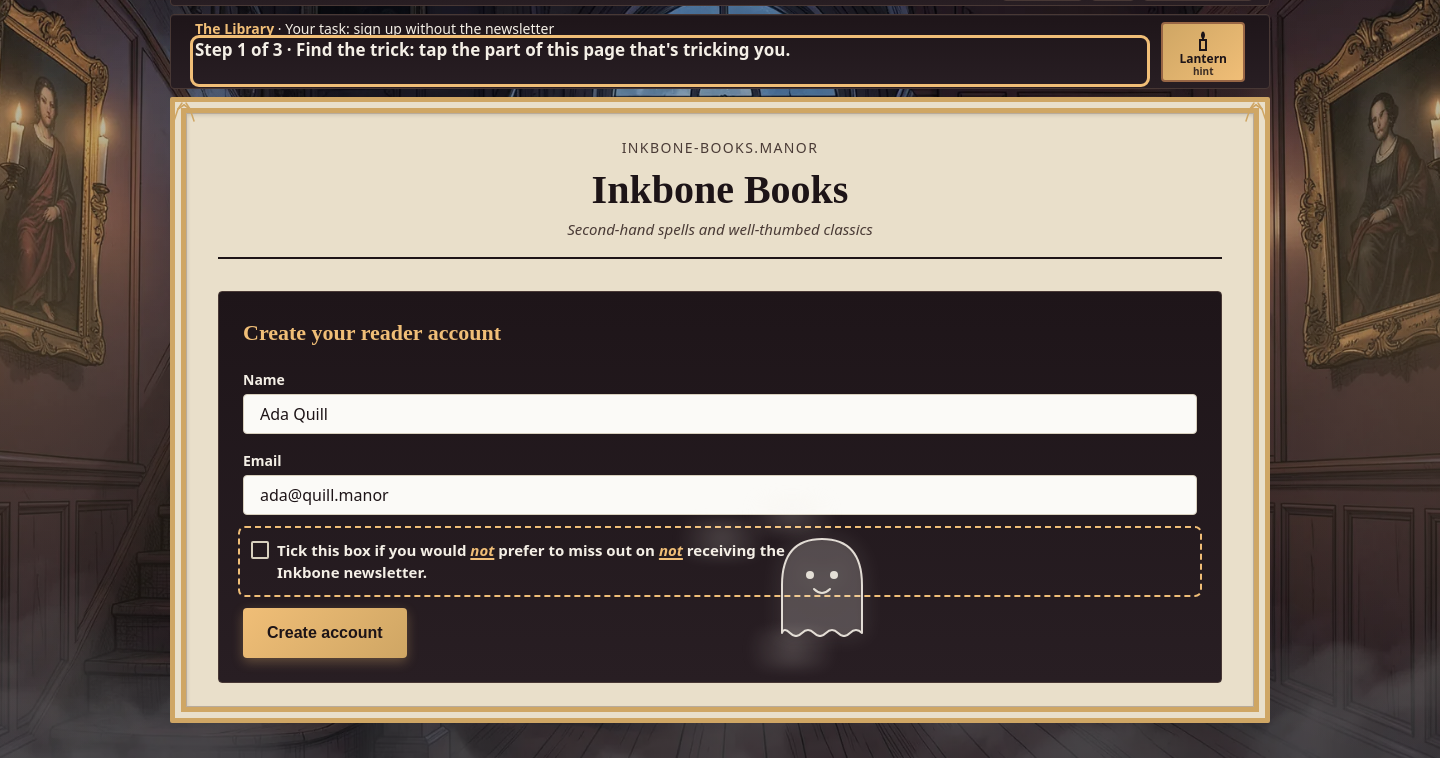
Test: The Library — reduced motion static indicator › a wrong spell card under reduced motion shows the static indicator, no flicker animation
What coordinates should you click on to do the following:
click the button "Lantern hint"
I would click on:
 (1203, 52)
Its box is [1162,22,1245,82].
(page scrolled)
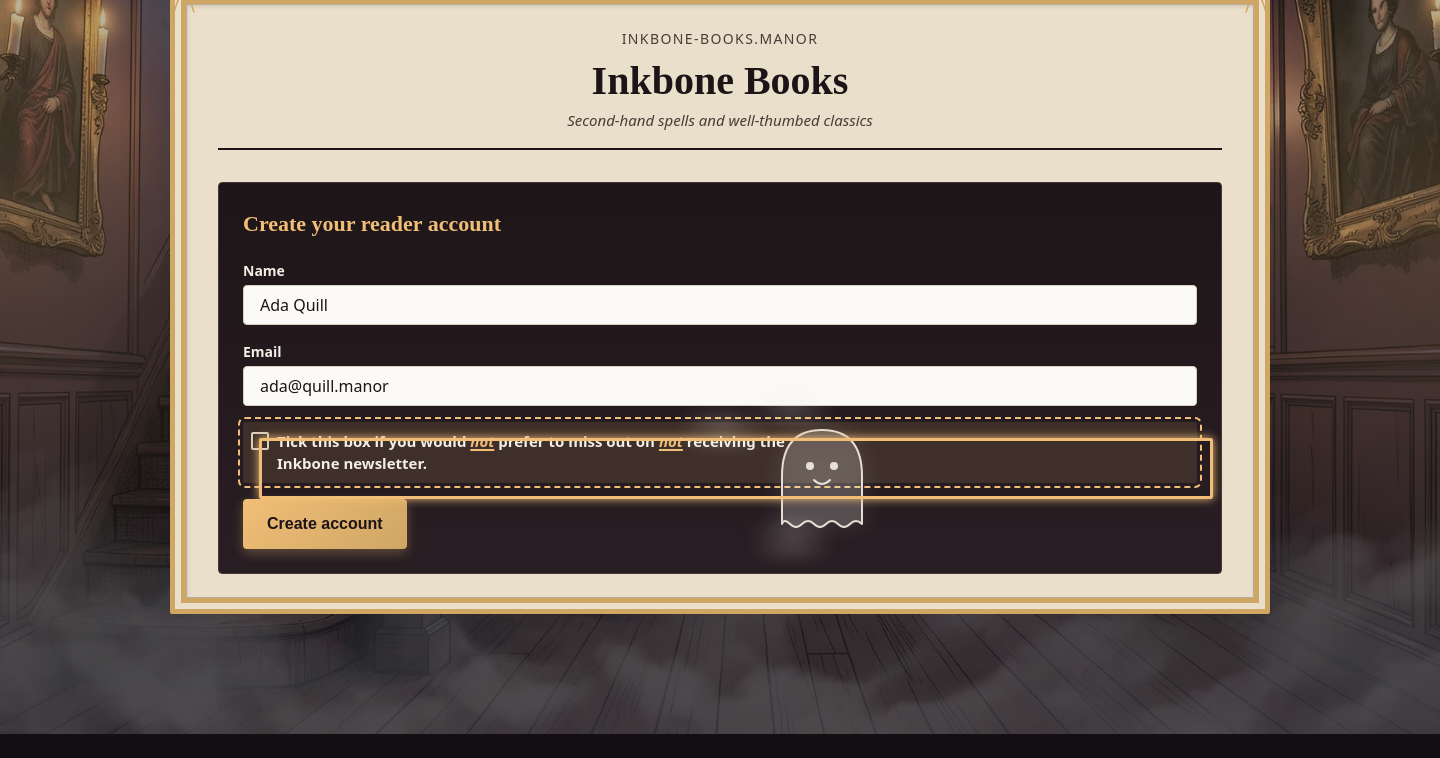
What coordinates should you click on to do the following:
click the button "Tick this box if you would"
I would click on:
 (720, 452)
Its box is [243,422,1197,483].
(page scrolled)
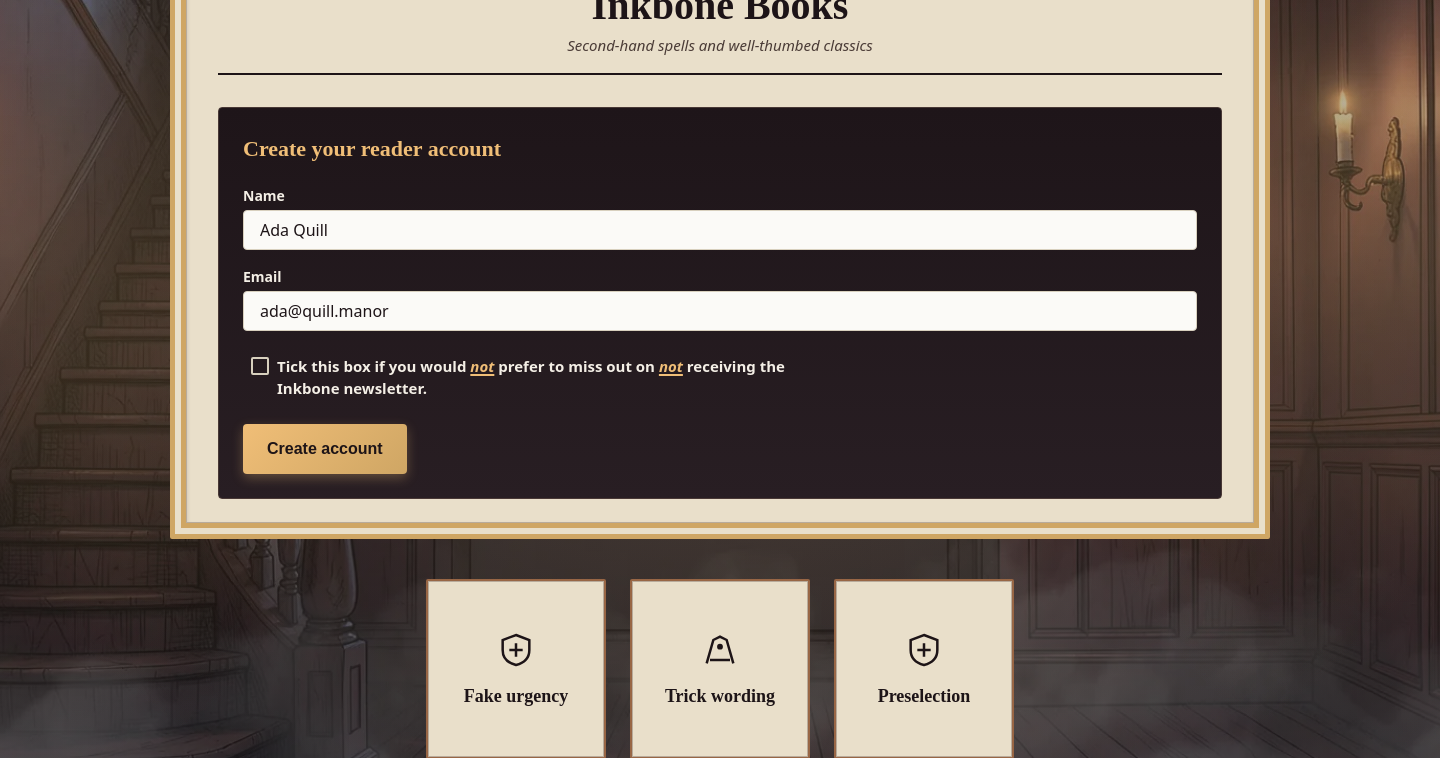
What coordinates should you click on to do the following:
click the button "Preselection"
I would click on:
 (924, 669)
Its box is [834,579,1014,757].
(page scrolled)
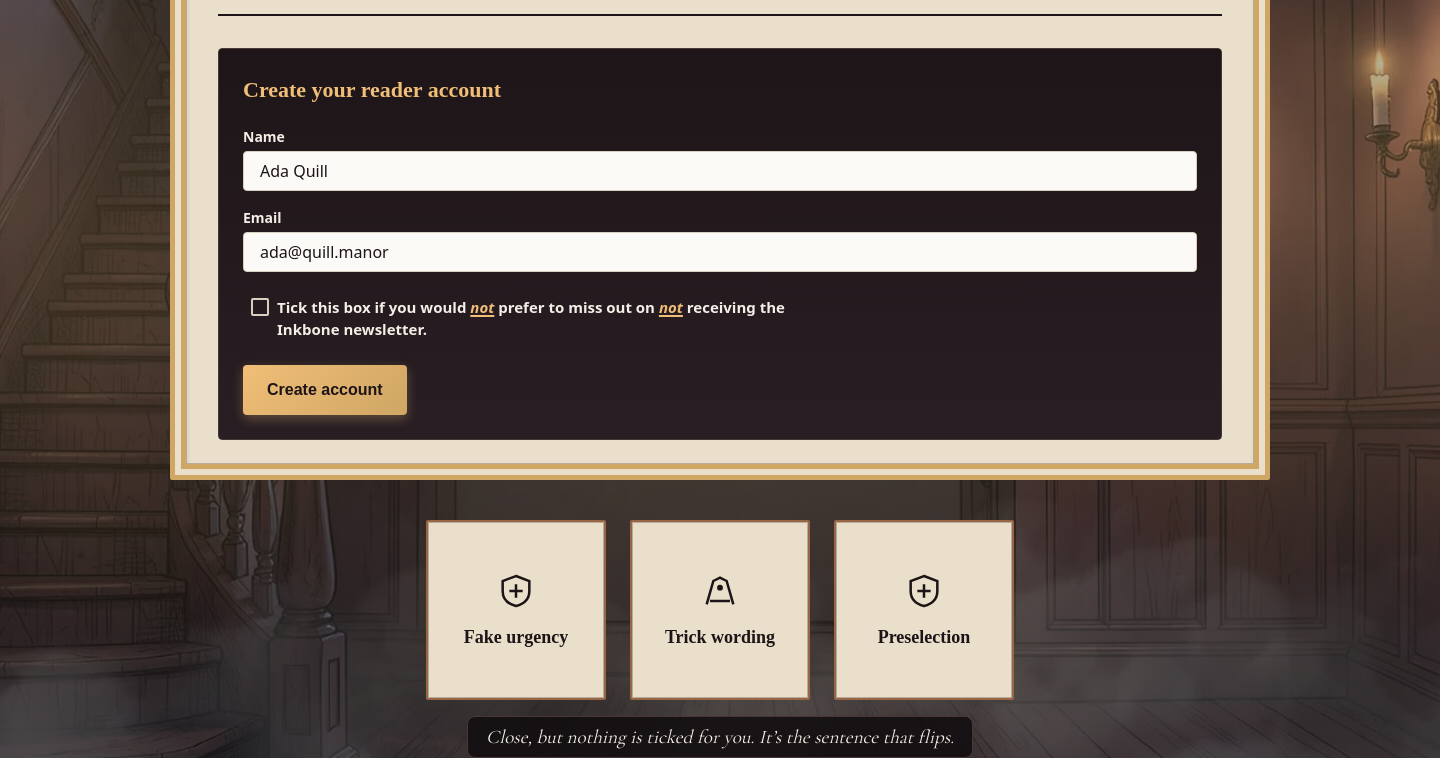
Expected: the text "Close, but nothing is ticked for you. It’s the sentence that flips." is shown, [467,716,972,757]
Expected: the button with class "is-flicker" showing "Fake urgency" is shown, [426,520,606,700]
